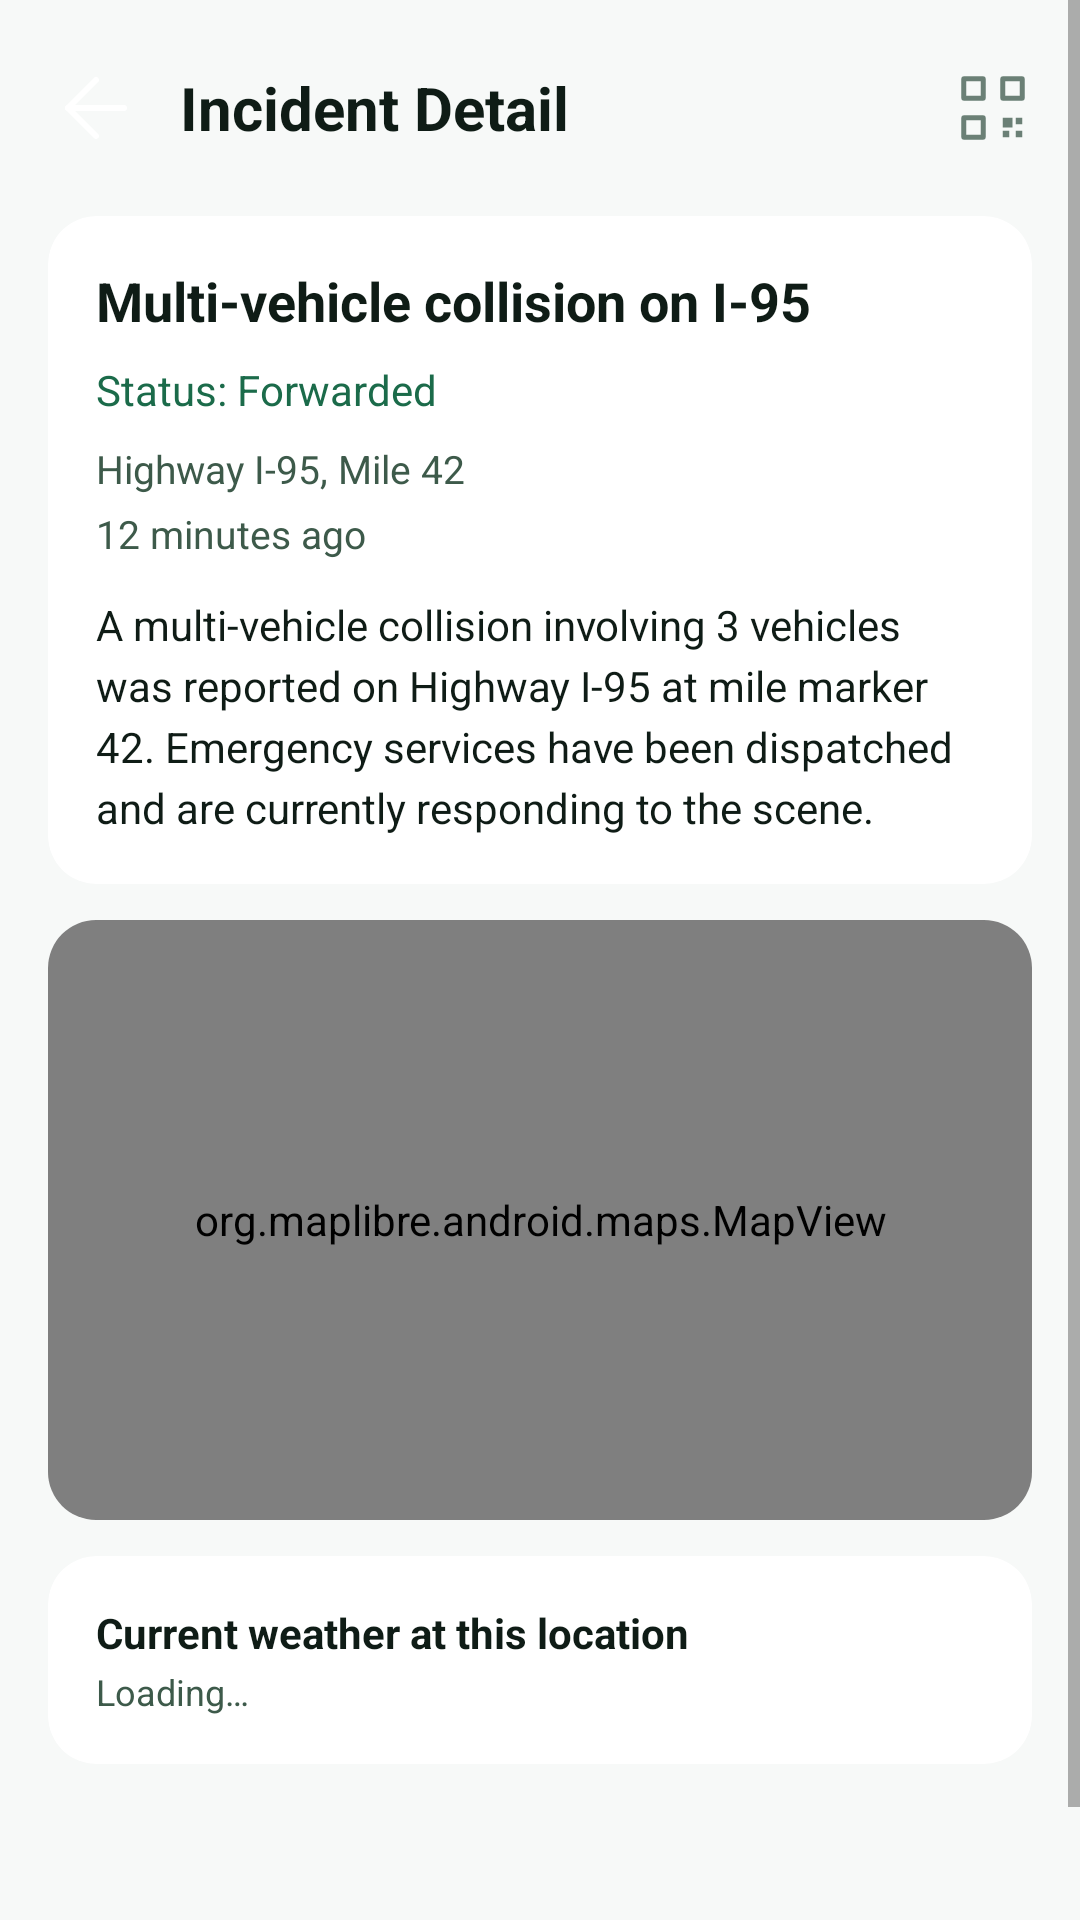

Icon bounding boxes for this 1080px x 1920px phone screenshot, format (x1, y1, x2, y2):
qr code: (961, 76, 1025, 140)
